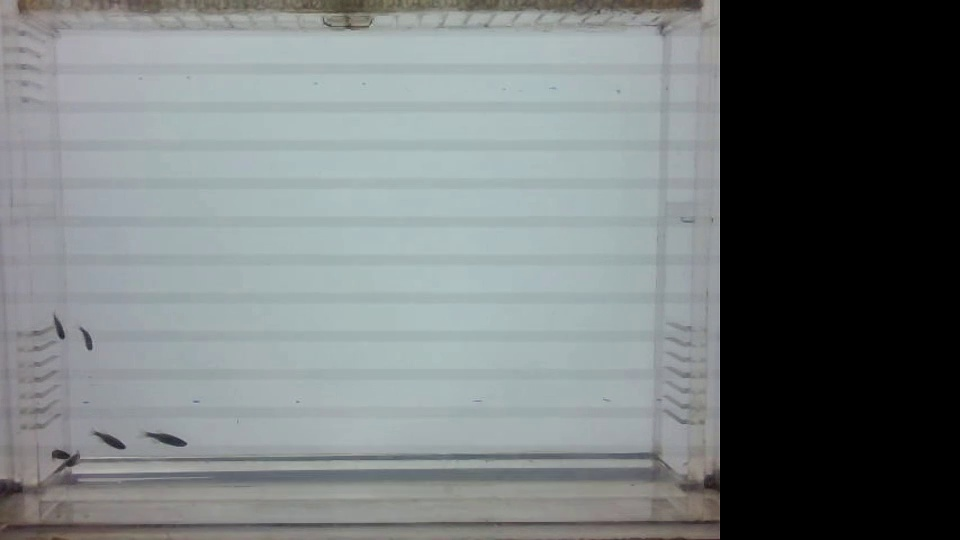fish: (136, 426, 192, 452), (84, 424, 129, 452), (69, 320, 101, 356), (41, 310, 68, 348), (60, 453, 88, 473), (41, 442, 69, 462)
